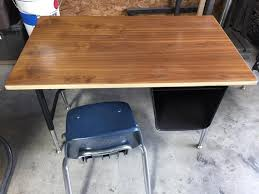desk: (4, 13, 256, 148)
